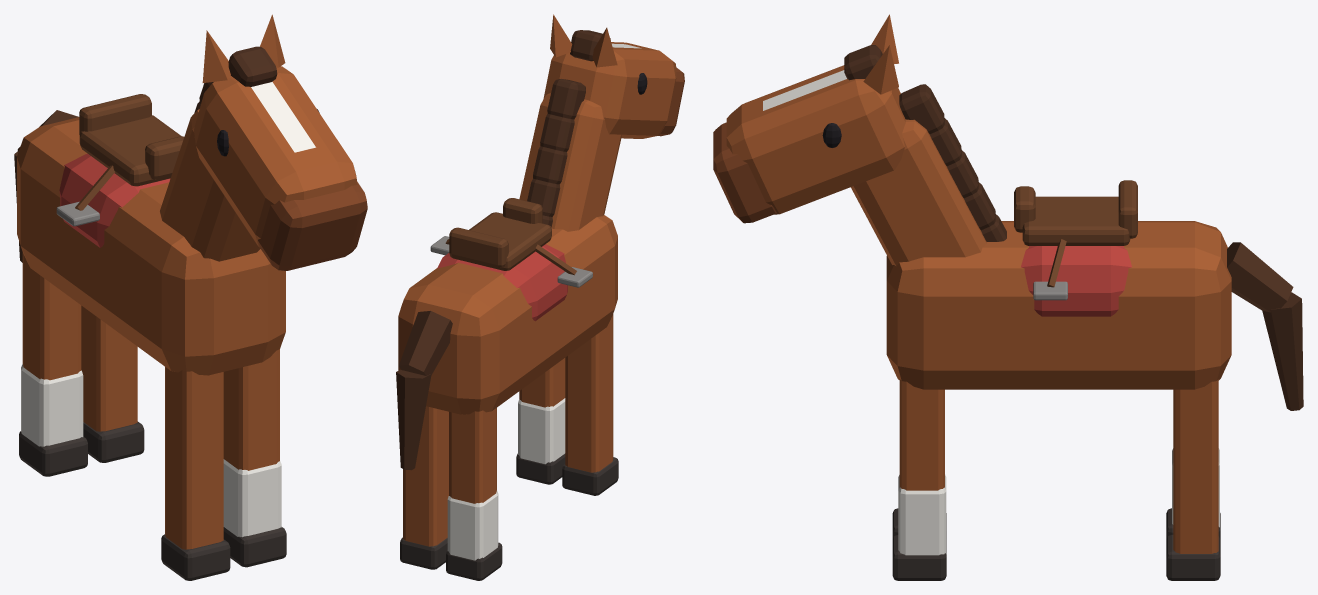
File: horse_chestnut.glb
3 views of the same model, side by side, from view 1: azimuth 30°, elevation 25°; view 2: azimuth 150°, elevation 25°; view 3: azimuth 270°, elevation 25° (orthographic). The views are drawn at different scales.
Parts seen in each view (by area): view 1: body_mesh, head_mesh, leg_fr_mesh, leg_br_mesh, leg_fl_mesh, saddle_mesh, leg_bl_mesh, ear_r_mesh, ear_l_mesh; view 2: body_mesh, head_mesh, saddle_mesh, leg_br_mesh, leg_fr_mesh, leg_bl_mesh, leg_fl_mesh, tail_mesh, ear_r_mesh, ear_l_mesh; view 3: body_mesh, head_mesh, saddle_mesh, leg_fl_mesh, leg_bl_mesh, tail_mesh, ear_l_mesh.
Boxes of the visible parts, x1,y1,x2,y2 form: body_mesh: (17,117,285,375); head_mesh: (160,46,367,270); leg_fr_mesh: (161,367,230,580); leg_br_mesh: (19,252,87,476); leg_fl_mesh: (223,349,286,567); saddle_mesh: (56,94,184,247); leg_bl_mesh: (81,305,144,462); ear_r_mesh: (202,30,230,82); ear_l_mesh: (260,14,285,67); body_mesh: (398,215,617,414); head_mesh: (519,30,684,231); saddle_mesh: (430,198,592,321); leg_br_mesh: (446,408,502,580); leg_fr_mesh: (562,314,618,495); leg_bl_mesh: (400,406,448,569); leg_fl_mesh: (516,358,565,484); tail_mesh: (396,311,452,470); ear_r_mesh: (592,27,617,67); ear_l_mesh: (550,14,572,57); body_mesh: (886,221,1231,389); head_mesh: (713,45,1006,266); saddle_mesh: (1014,180,1137,316); leg_fl_mesh: (892,379,946,580); leg_bl_mesh: (1166,379,1220,580); tail_mesh: (1227,242,1303,410); ear_l_mesh: (863,45,898,94).
Size of the model in its own units: 0.94 by 2.71 by 2.74.
